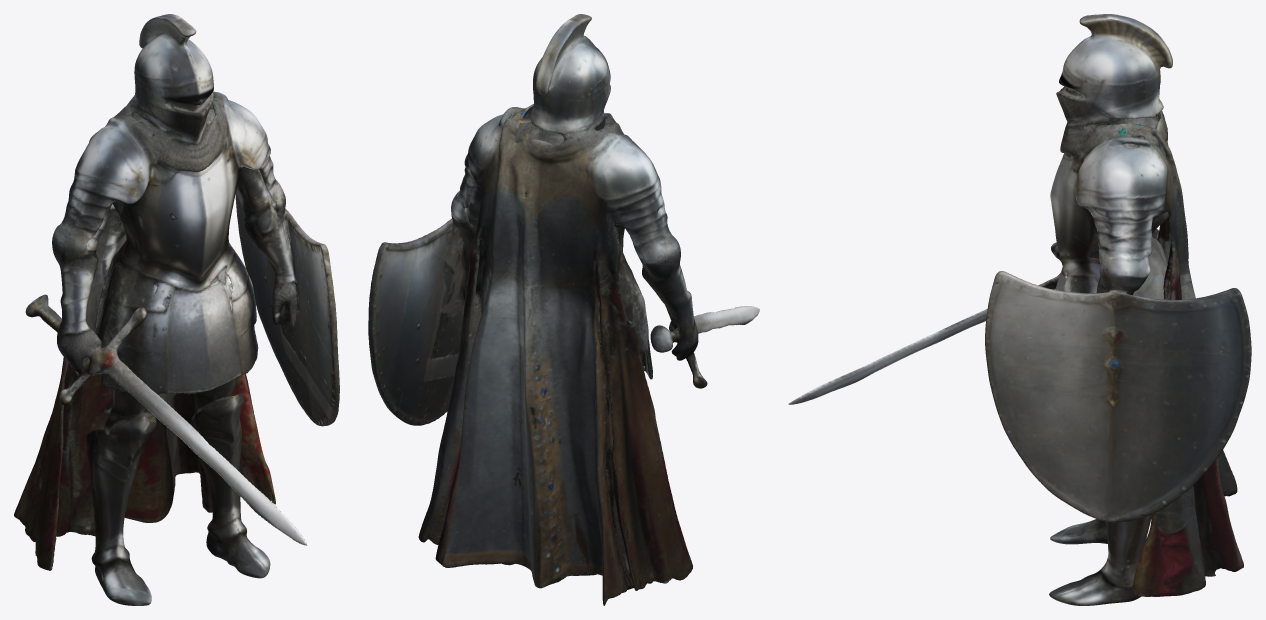
Rendered from chr_player_medieval_knight.glb.
3 views of the same model, side by side, from view 1: azimuth 30°, elevation 25°; view 2: azimuth 150°, elevation 25°; view 3: azimuth 270°, elevation 25° (orthographic).
Visible parts, largest first — view 1: Mesh_0; view 2: Mesh_0; view 3: Mesh_0.
Part boxes in pixels (<box>): Mesh_0: <box>14,14,339,605</box>; Mesh_0: <box>368,14,759,605</box>; Mesh_0: <box>788,14,1251,605</box>.
Size of the model in its own units: 1.06 by 2.05 by 1.55.
1 material, 1 textured.
